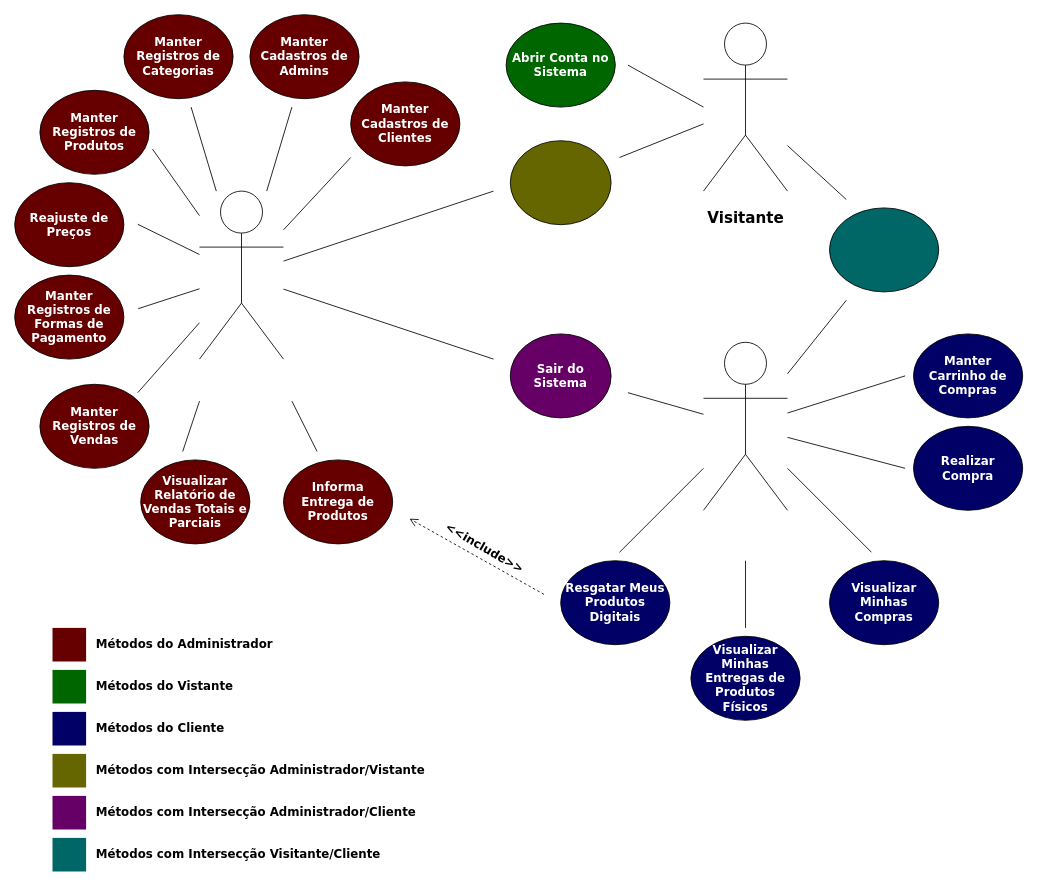
Some shapes in this 1037 by 888 pixel diagram are drawn without their labels. The centre of each missing label's shape, as x and y in pixels:
"Administrador" goes at (241,274).
"Cliente" goes at (745,425).
"Entrar no Sistema" goes at (560,182).
"Ver Catalogo de Produtos" goes at (884,249).
